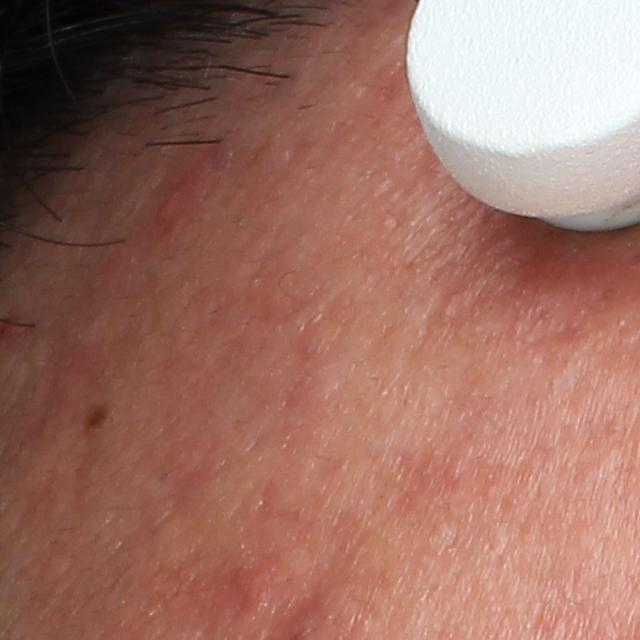nevus: (81, 401, 117, 439)
